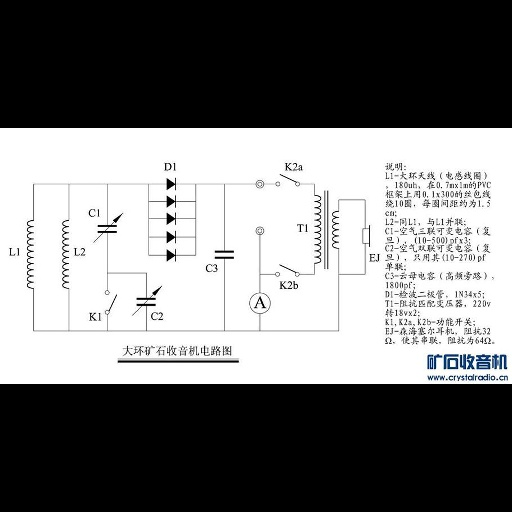capacitor: (213, 245, 237, 262)
firstdiode: (159, 209, 182, 228), (161, 247, 183, 263), (162, 229, 181, 245), (163, 195, 181, 210), (165, 176, 178, 192)
inductor: (57, 216, 72, 295), (24, 216, 39, 292)
transformer: (312, 183, 341, 276)
